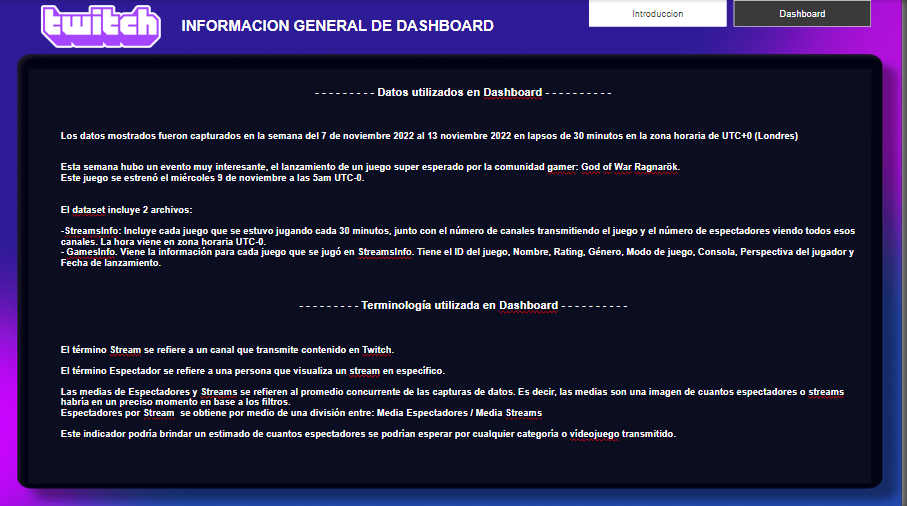

The dashboard page shown, as its layout file describes it:
{"tool":"powerbi","page":{"name":"Introduccion","canvas":[1280,720],"ordinal":0},"visuals":[{"type":"textbox","box":[43.3,100,1195,583.3],"z":0},{"type":"textbox","box":[255,20,773.3,35],"z":1},{"type":"pageNavigator","box":[838.3,0,400,38.3],"z":2}]}

Visuals, with their boxes in screenshot pixels (x1, y1, x2, y2), scaled from the page's 1280x720 canvas onto the 907x506 screenshot:
textbox: x1=31 y1=70 x2=877 y2=480
textbox: x1=181 y1=14 x2=729 y2=39
pageNavigator: x1=594 y1=0 x2=877 y2=27
